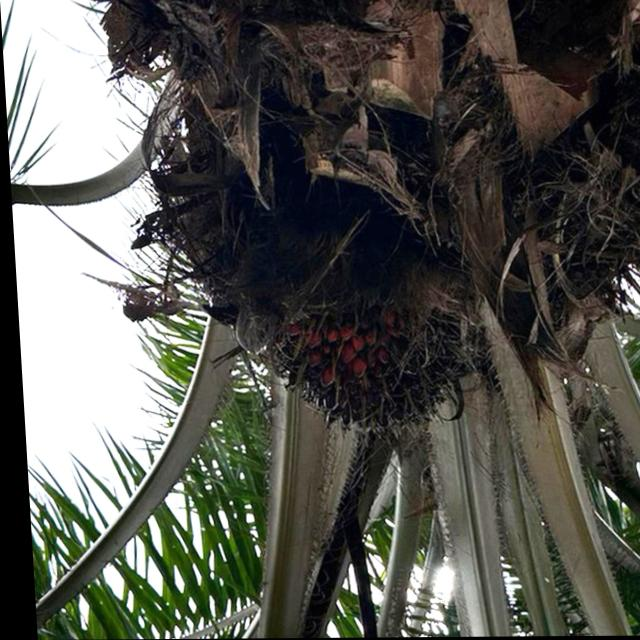ripe: (238, 232, 488, 461)
